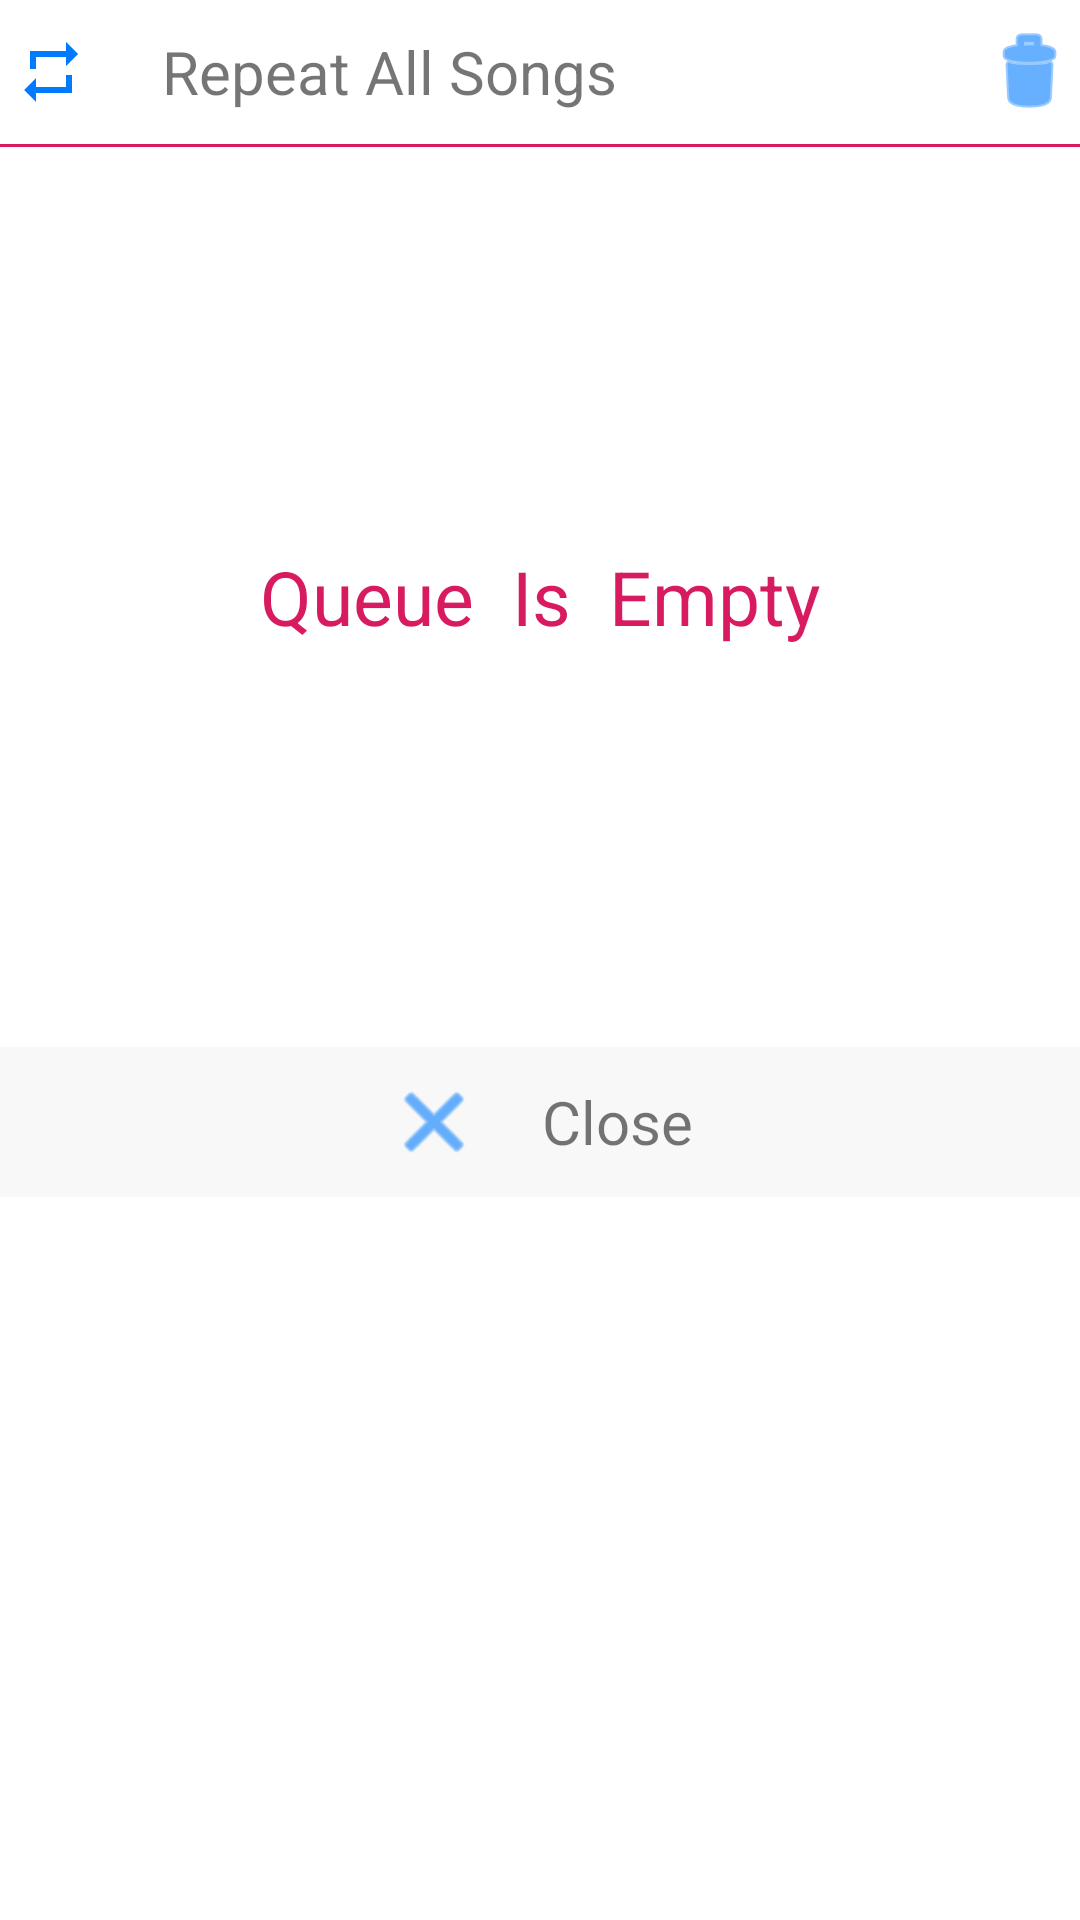

Where icons sit on this 1080*1920 app screen, as (x1=x1, y1=y1, x2=x2, y2=y2):
delete: (x1=1002, y1=33, x2=1057, y2=108)
